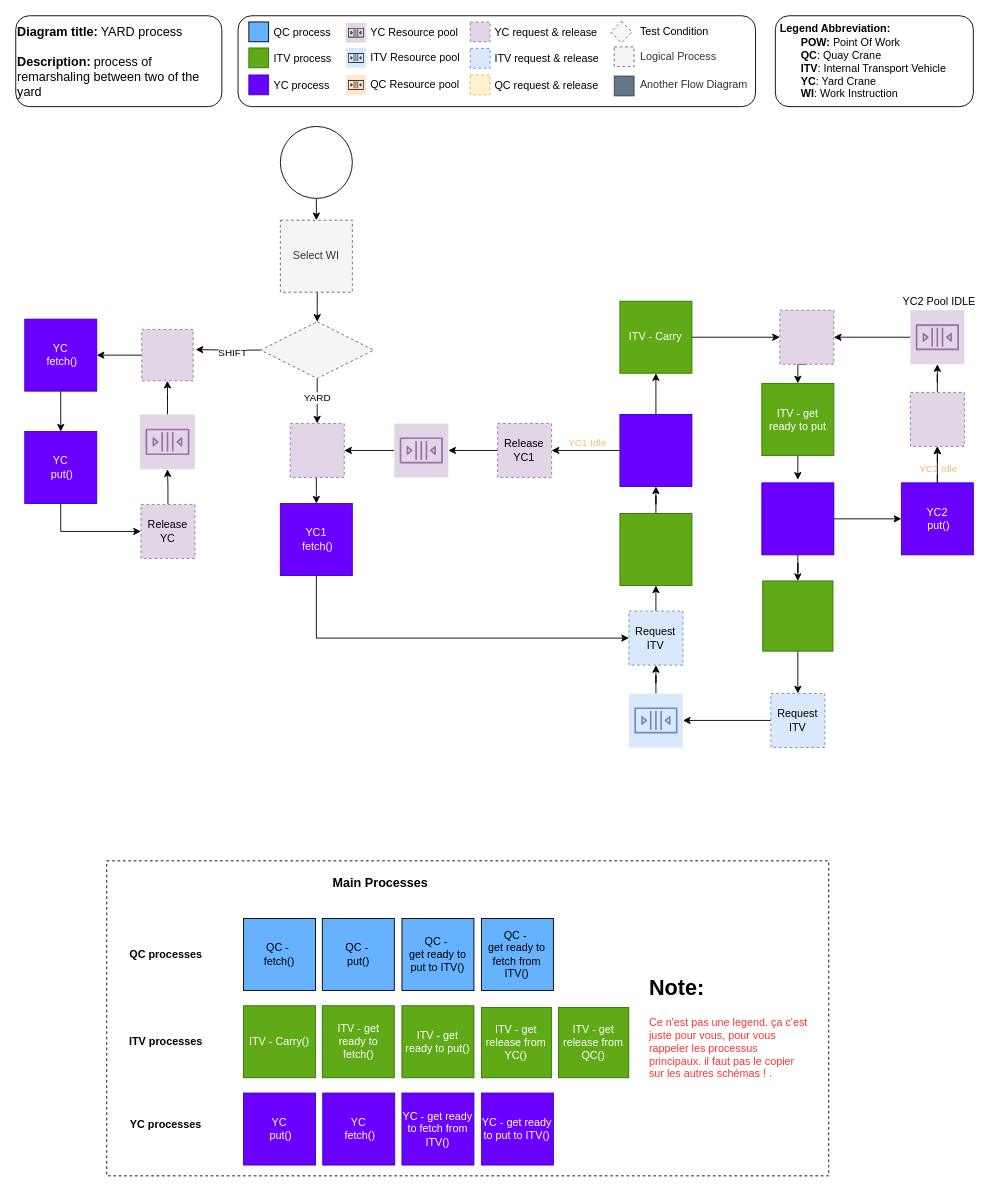
Image size: 991x1192. Some labels were removed from this diagram. Here are the shapes that lost their labels. From the top down, the centre of each, then its label:
At pixel 315 162: "Start POW_ID".
At pixel 167 354: "Request YC".
At pixel 317 349: "Move kind ?".
At pixel 806 336: "Request YC2".
At pixel 936 419: "Release YC2".
At pixel 167 441: "YC1 Pool IDLE".
At pixel 316 450: "Request YC1".
At pixel 420 450: "YC 1 Pool IDLE".
At pixel 655 450: "YC1 - get ready to put to ITV()".
At pixel 797 518: "YC2 - get ready to fetch from ITV".
At pixel 655 549: "ITV - get ready to fetch".
At pixel 797 615: "ITV - get relaese from YC".
At pixel 655 720: "ITV Pool IDLE".
